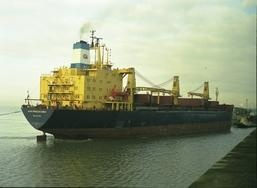Cargoship: (21, 24, 241, 142)
